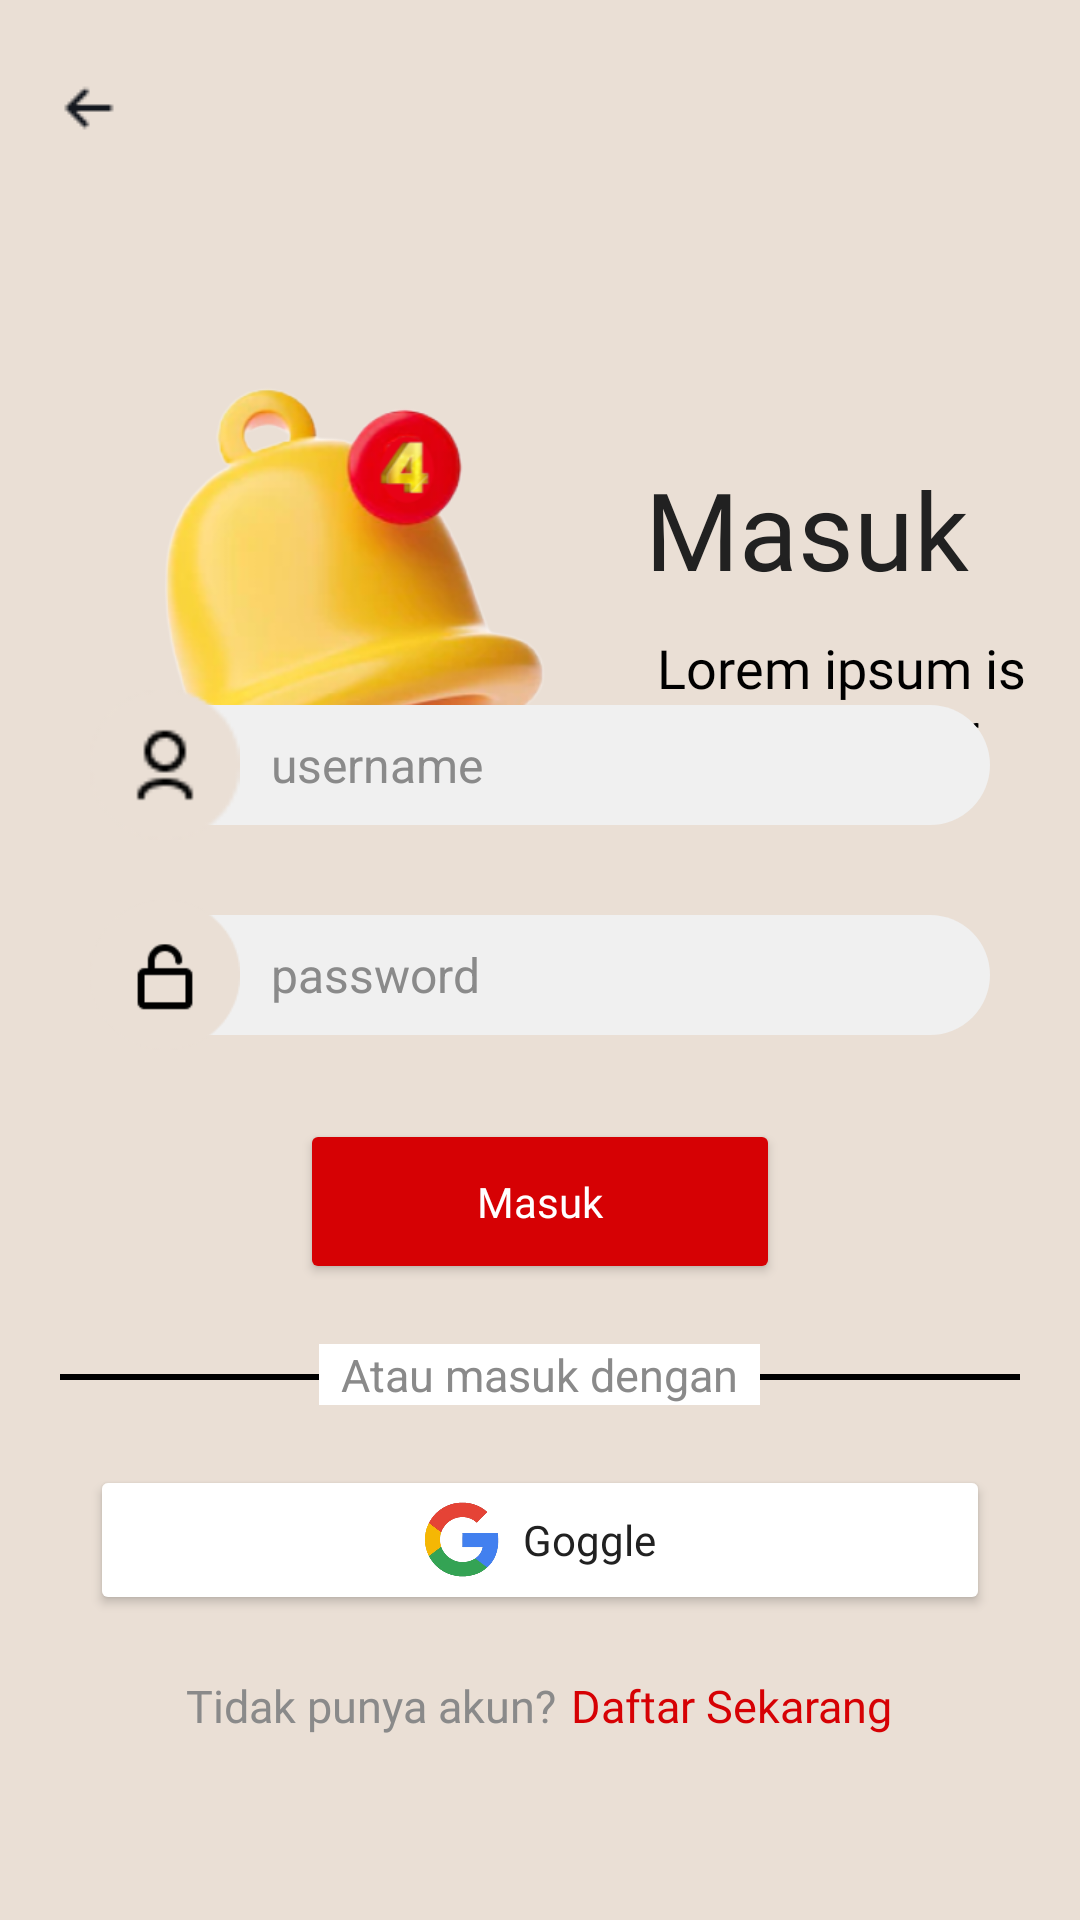

Locate icon controls on the screen. Image size 1080px×1920px, boxes as (x1, y1, x2, y2).
back: (64, 87, 114, 129)
gembok: (137, 944, 193, 1010)
profile: (136, 730, 194, 800)
